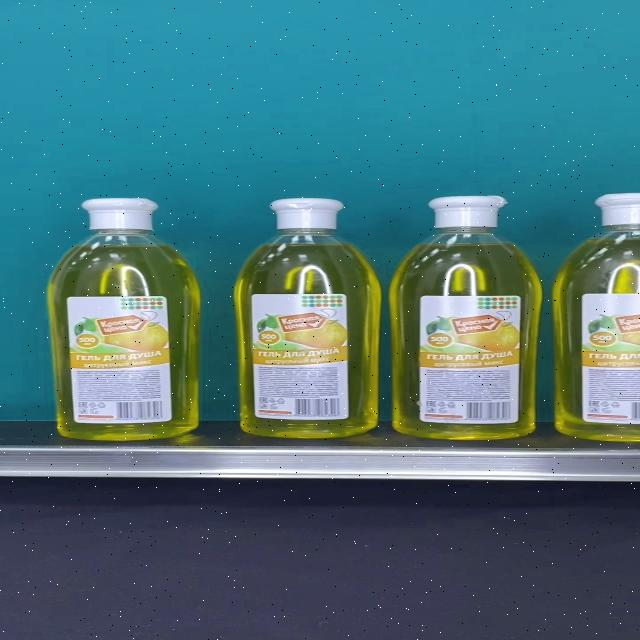Bottle: (389, 196, 542, 440), (48, 197, 200, 441), (234, 198, 382, 440)
Cap: (428, 196, 506, 230), (80, 197, 159, 230), (269, 198, 344, 230)
